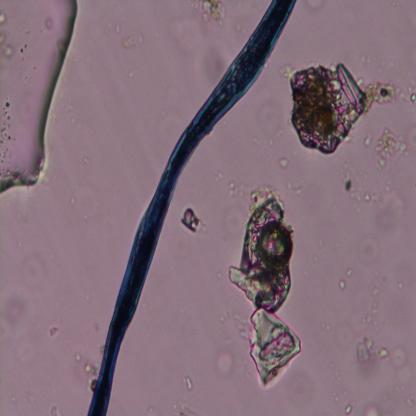Air bubble: (0, 0, 81, 192)
Background material: (219, 190, 303, 390), (284, 53, 396, 149), (5, 243, 50, 325), (353, 337, 408, 383), (339, 158, 381, 208), (219, 173, 274, 210), (372, 183, 410, 230), (372, 126, 409, 172), (183, 0, 231, 29), (70, 350, 100, 394), (351, 228, 386, 265), (208, 336, 237, 380), (197, 46, 231, 81), (365, 278, 385, 331), (185, 202, 207, 236), (120, 31, 148, 50), (397, 89, 416, 107), (173, 400, 196, 414), (363, 402, 382, 416), (44, 401, 61, 416), (186, 372, 196, 393), (49, 323, 61, 337), (277, 158, 290, 169), (342, 402, 352, 416), (126, 70, 137, 81), (344, 265, 354, 277), (337, 278, 345, 290)
Cotton: (86, 0, 300, 416)
Diatom: (260, 218, 297, 269)
